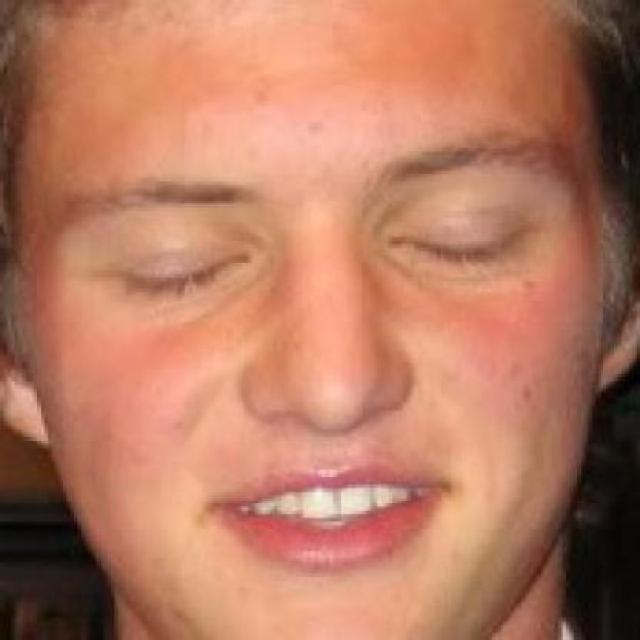drowsy: (388, 208, 524, 280), (116, 244, 253, 304)
